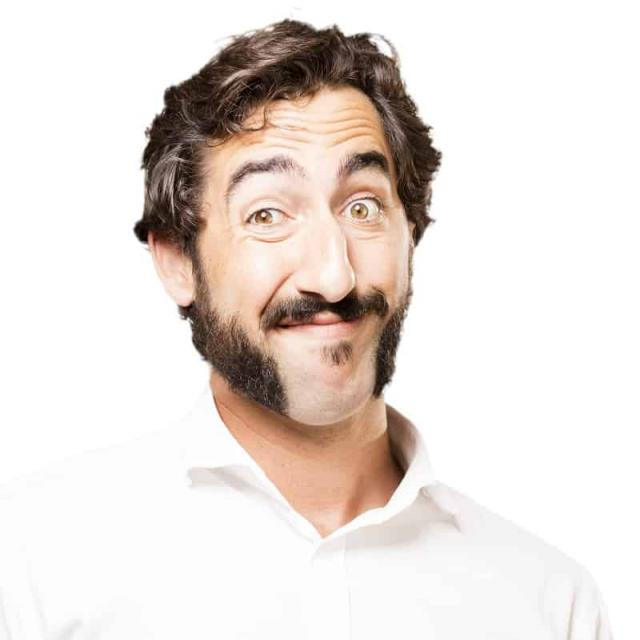beard: (182, 295, 290, 417), (370, 301, 408, 401), (278, 295, 388, 323)
hair: (134, 19, 442, 251)
